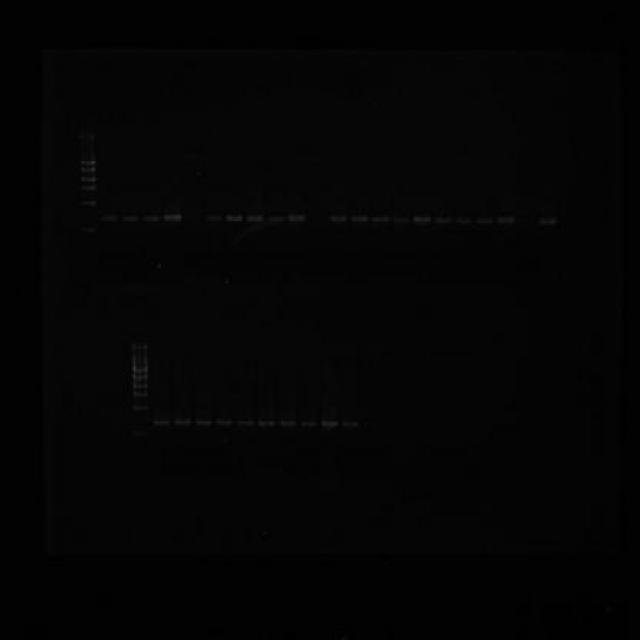B: (538, 217, 558, 226), (320, 418, 338, 428), (194, 417, 213, 426), (298, 418, 317, 427), (278, 418, 296, 427), (496, 215, 516, 223), (474, 216, 494, 224), (340, 419, 360, 427), (217, 417, 234, 426), (237, 418, 254, 427), (99, 214, 118, 222), (152, 418, 171, 426), (372, 215, 390, 223), (455, 217, 473, 225), (174, 418, 192, 426), (164, 213, 181, 221), (257, 418, 274, 426), (436, 215, 452, 223), (350, 215, 368, 222), (330, 215, 348, 222), (412, 215, 430, 222), (266, 214, 286, 220), (226, 214, 243, 220), (143, 214, 160, 220), (393, 216, 410, 222), (206, 214, 222, 220), (288, 214, 304, 220), (122, 216, 138, 222), (248, 216, 263, 222)
M: (125, 359, 152, 441), (75, 150, 99, 236)
P: (77, 198, 96, 208), (78, 156, 95, 167), (130, 429, 148, 437), (79, 175, 96, 183), (79, 166, 96, 174), (78, 185, 97, 192), (133, 404, 149, 412), (132, 389, 148, 397), (132, 373, 148, 381), (132, 365, 148, 373), (77, 227, 96, 233), (132, 381, 148, 388)
Pc: (130, 342, 148, 352), (76, 131, 96, 140)
